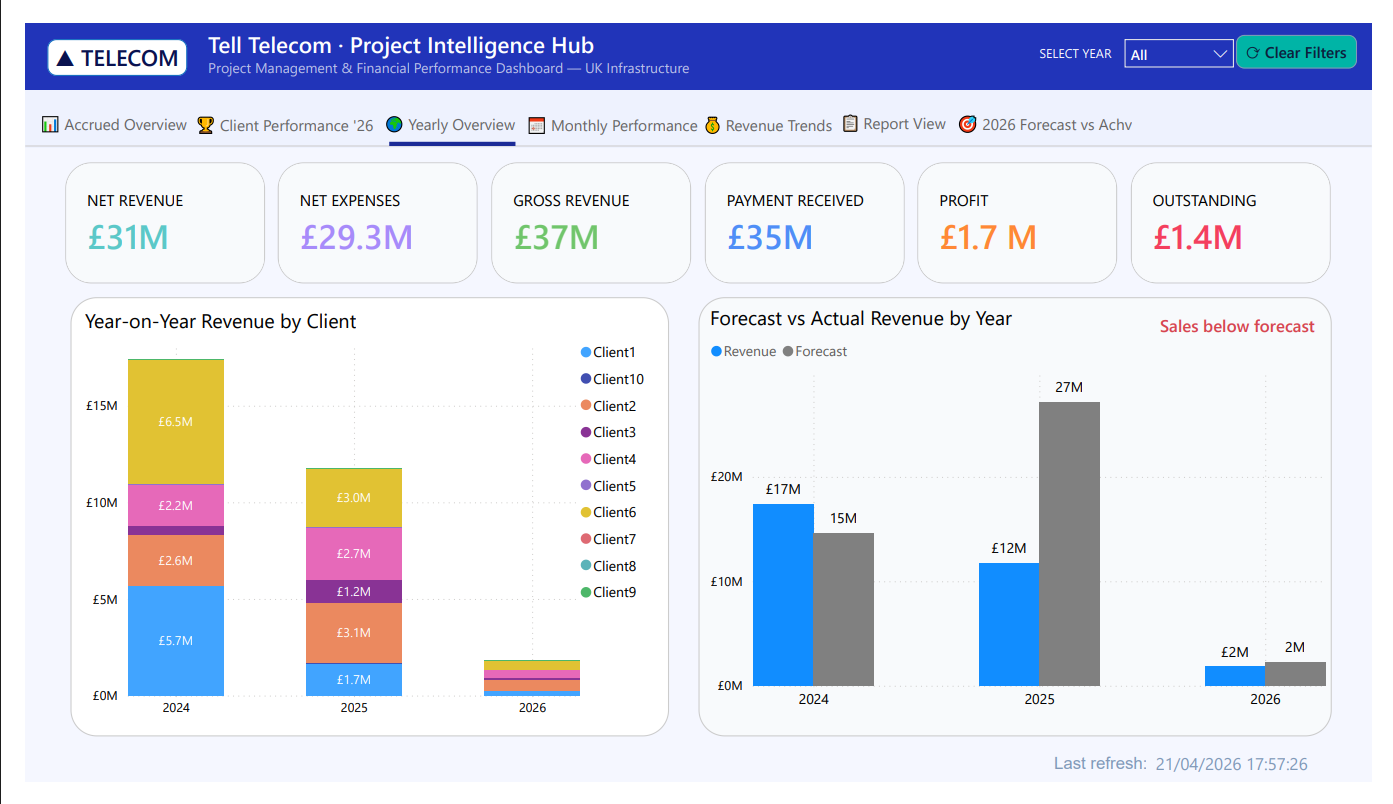

This screenshot's page, from the dashboard's own definition file:
{"tool":"powerbi","page":{"name":"Yearly overview","canvas":[1280,720],"ordinal":2},"visuals":[{"type":"shape","box":[0,62.5,1280,55],"z":0},{"type":"cardVisual","fields":{"Rows":["Last refreshed.Last Refreshed Time"]},"box":[841.4,0,135.7,65.9],"z":1000},{"type":"cardVisual","fields":{"Data":["Measure Table2.Total Sale_excl_VAT"]},"box":[37.9,131.8,190,115],"z":2000},{"type":"group","id":"g1","title":"Group 2","box":[640,260,606.7,416.7],"z":4000},{"type":"textbox","box":[738.6,14,104.3,30.9],"z":5000},{"type":"cardVisual","fields":{"Data":["Measure Table2.Payment Recieved"]},"box":[645.7,131.8,190,115],"z":6000},{"type":"clusteredColumnChart","title":"Forecast vs Actual Revenue by Year","fields":{"Category":["Date Table.Date.Variation.Date Hierarchy.Year"],"Y":["Measure Table2.Net Sale","Measure Table2.Forecast Value"]},"box":[640,260,602.4,416.7],"z":6000,"group":"g1"},{"type":"cardVisual","fields":{"Data":["Measure Table2.Profit (M)"]},"box":[848.3,131.8,190,115],"z":7000},{"type":"cardVisual","fields":{"Data":["Measure Table2.Revenue Insight"]},"box":[1058.1,271.7,188.6,25],"z":7000,"group":"g1"},{"type":"cardVisual","fields":{"Data":["Measure Table2.Gross Outstanding"]},"box":[1051,131.8,190,115],"z":8000},{"type":"cardVisual","fields":{"Data":["Measure Table2.Net Expense"]},"box":[240.5,131.8,190,115],"z":9000},{"type":"cardVisual","fields":{"Data":["Measure Table2.Gross Revenue"]},"box":[443.1,131.8,190,115],"z":10000},{"type":"textbox","box":[0,0,1280,62.5],"z":11000},{"type":"shape","box":[0,111.1,1280,11.1],"z":12000},{"type":"textbox","box":[169,0,477.1,74.3],"z":13000},{"type":"shape","title":"▲ TELIGENT","box":[21.2,15.4,133.2,34.8],"z":14000},{"type":"actionButton","box":[1151.2,11.2,115,31.2],"z":16000},{"type":"textbox","box":[973.1,689.2,119.6,30.8],"z":17000},{"type":"card","fields":{"Values":["Min(Last refreshed.Last Refreshed Time)"]},"box":[1065.5,690.4,163.1,29],"z":18000},{"type":"actionButton","box":[4.3,75,160.1,40.4],"z":19000},{"type":"actionButton","box":[636.6,76.4,138.5,39],"z":20000},{"type":"actionButton","box":[335.7,75.7,135.7,38.6],"z":21000},{"type":"actionButton","box":[471.9,75.4,171.7,40.4],"z":22000},{"type":"actionButton","box":[769.4,73.5,112.5,40.4],"z":23000},{"type":"shape","box":[20.2,95.2,132.7,34.6],"z":24000},{"type":"shape","box":[176,95.2,144.3,33.2],"z":25000},{"type":"shape","box":[346.3,98.1,119.7,33.2],"z":26000},{"type":"shape","box":[784.1,94.8,105.3,33.2],"z":27000},{"type":"shape","box":[856.3,96.4,100,33.3],"z":28000},{"type":"actionButton","box":[877.9,74.6,181.8,39],"z":29000},{"type":"shape","box":[918.3,94,141.4,33.2],"z":30000},{"type":"actionButton","box":[157.1,75.7,178.6,40],"z":31000},{"type":"shape","box":[940.8,96.6,155.8,33.2],"z":32000},{"type":"shape","box":[473.9,94.7,170.2,34.6],"z":33000},{"type":"textbox","box":[958.8,13.8,81.2,30],"z":34000},{"type":"slicer","title":"Select Year","fields":{"Values":["Date Table.Date.Variation.Date Hierarchy.Year1"]},"box":[1040,10,113.8,32.5],"z":35000},{"type":"columnChart","title":"Year-on-Year Revenue by Client","fields":{"Category":["Date Table.Date.Variation.Date Hierarchy.Year"],"Series":["Clients.Client"],"Y":["Measure Table 2.Net Sale"]},"box":[43.3,260,568.3,416.7],"z":36000}]}

Visuals, with their boxes on the page's 1280x720 design canvas (x1, y1, x2, y2). These are canvas units, not pixel positions in the 1393x804 screenshot, which may show the page scaled, cropped or inside an application window:
shape: 0 62 1280 118
cardVisual - Last refreshed.Last Refreshed Time: 841 0 977 66
cardVisual - Measure Table2.Total Sale_excl_VAT: 38 132 228 247
"Group 2" group: 640 260 1247 677
textbox: 739 14 843 45
cardVisual - Measure Table2.Payment Recieved: 646 132 836 247
"Forecast vs Actual Revenue by Year" clusteredColumnChart: 640 260 1242 677
cardVisual - Measure Table2.Profit (M): 848 132 1038 247
cardVisual - Measure Table2.Revenue Insight: 1058 272 1247 297
cardVisual - Measure Table2.Gross Outstanding: 1051 132 1241 247
cardVisual - Measure Table2.Net Expense: 240 132 430 247
cardVisual - Measure Table2.Gross Revenue: 443 132 633 247
textbox: 0 0 1280 62
shape: 0 111 1280 122
textbox: 169 0 646 74
"▲ TELIGENT" shape: 21 15 154 50
actionButton: 1151 11 1266 42
textbox: 973 689 1093 720
card - Min(Last refreshed.Last Refreshed Time): 1066 690 1229 719
actionButton: 4 75 164 115
actionButton: 637 76 775 115
actionButton: 336 76 471 114
actionButton: 472 75 644 116
actionButton: 769 74 882 114
shape: 20 95 153 130
shape: 176 95 320 128
shape: 346 98 466 131
shape: 784 95 889 128
shape: 856 96 956 130
actionButton: 878 75 1060 114
shape: 918 94 1060 127
actionButton: 157 76 336 116
shape: 941 97 1097 130
shape: 474 95 644 129
textbox: 959 14 1040 44
"Select Year" slicer: 1040 10 1154 42
"Year-on-Year Revenue by Client" columnChart: 43 260 612 677
